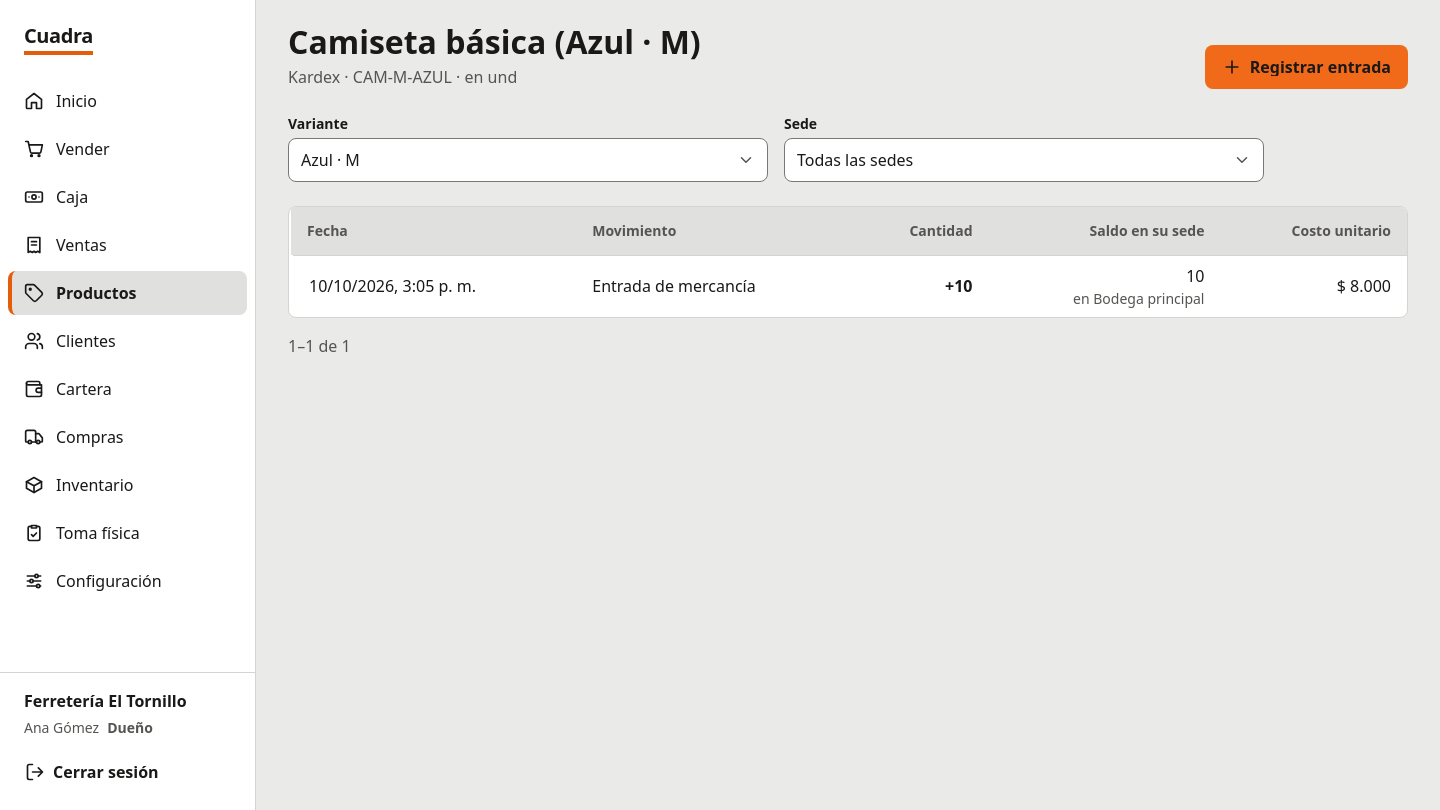
Test: KardexPage › variantes › cambia de variante y la conserva en la URL
This screenshot has width=1440, height=810.
Expected: the table named "Movimientos de Camiseta básica (Azul · M)" is shown, [289,207,1407,317]
Click the dropdown named "Variante". click: (330, 160)
box: [288,138,768,182]
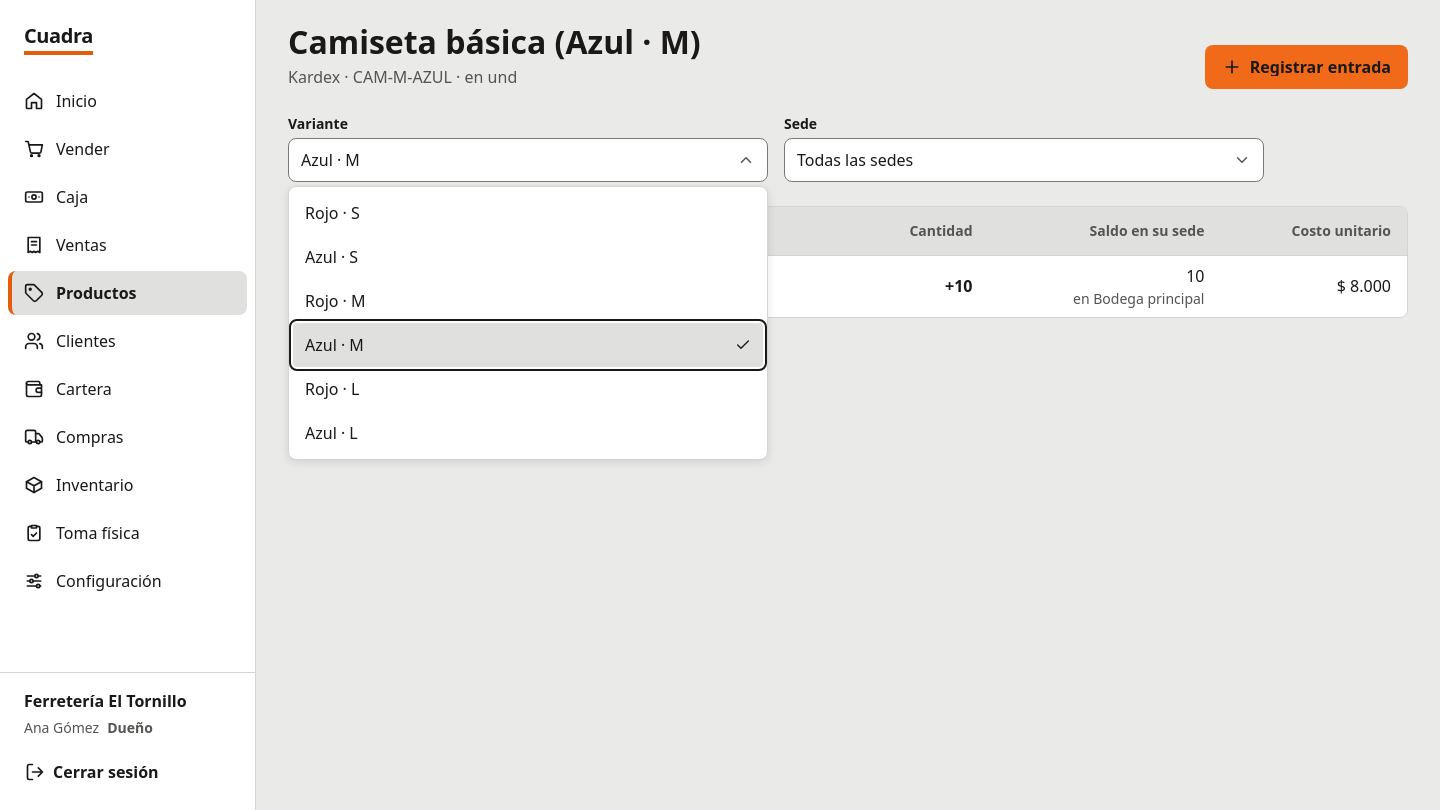
Click the option "Rojo · L". click: (332, 389)
box: [305,378,359,400]
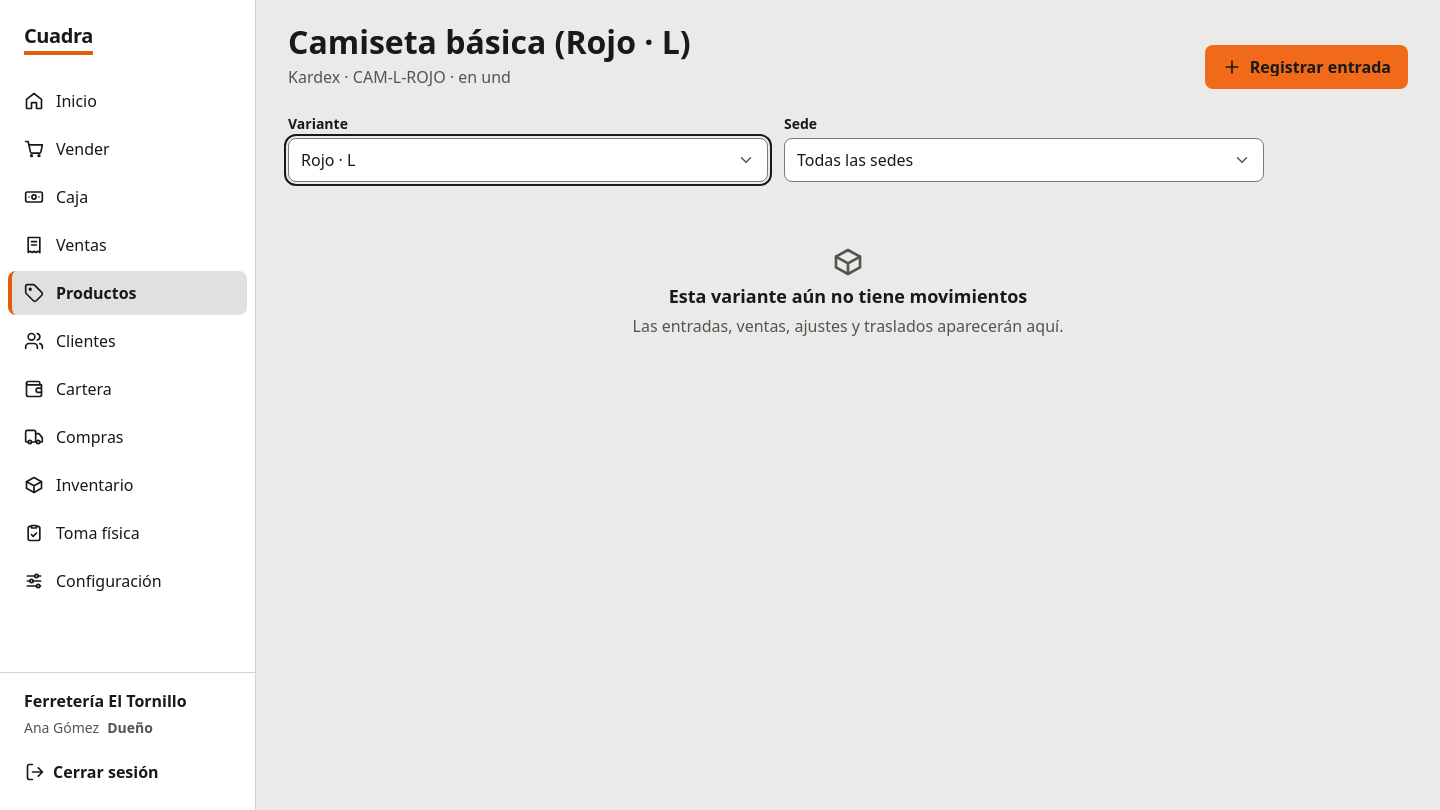
Expected: the heading "Esta variante aún no tiene movimientos" is shown, [669,286,1027,306]
